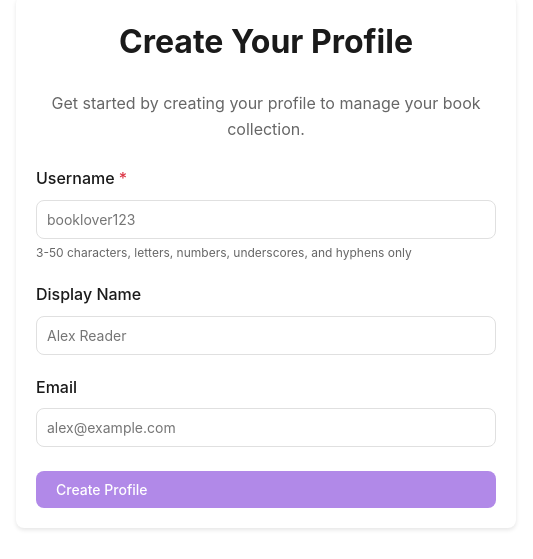
Scenario: ProfileSetup › should validate username is required
Click the button "Create Profile" at (102,490), box [36,471,496,508]
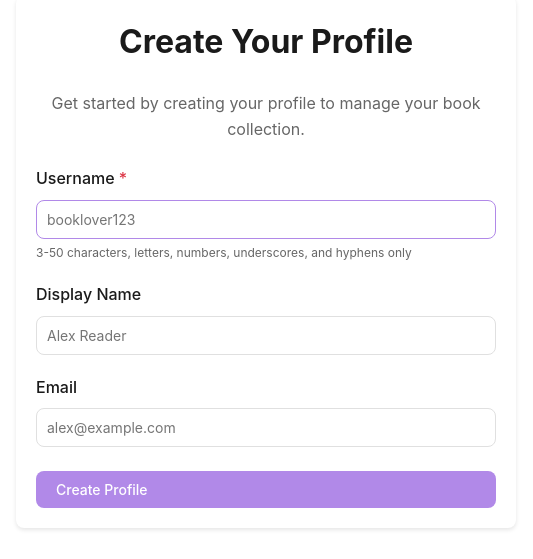
Type "ab" into the field labelled "Username *" at (266,220), box [36,200,496,239]
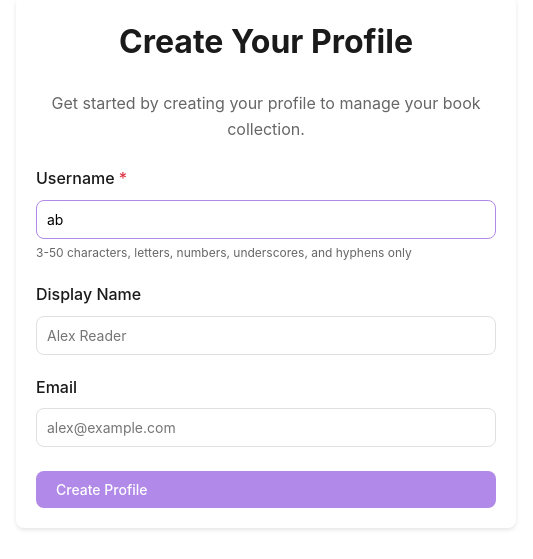
Click the button "Create Profile" at (102,490), box [36,471,496,508]
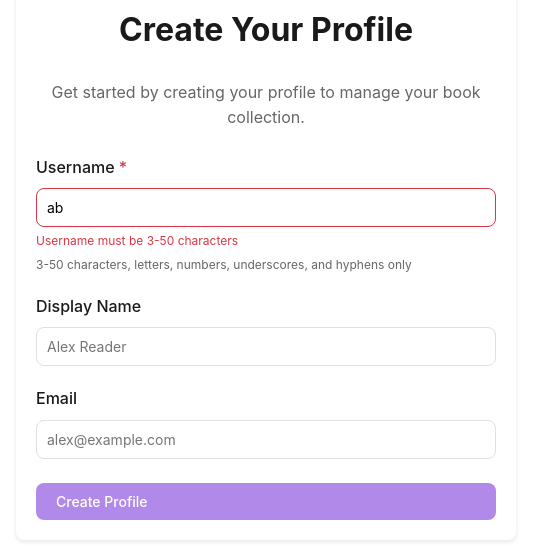
Now the text "Username must be 3-50 characters" is shown, box [36,233,238,248]
